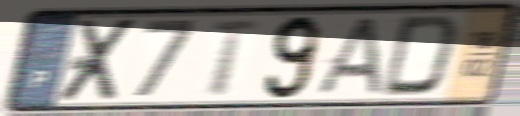7: (130, 17, 201, 102)
9: (260, 13, 327, 102)
A: (309, 16, 385, 97)
D: (377, 13, 462, 99)
T: (208, 19, 262, 98)
X: (53, 16, 142, 105)
